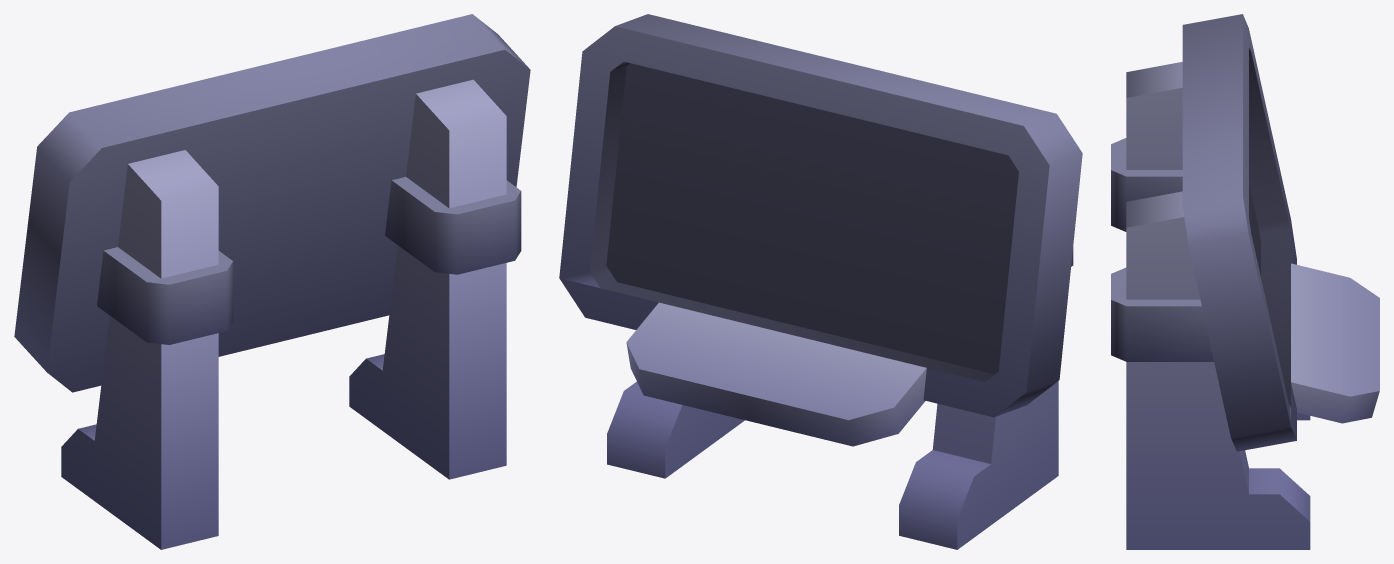
The model's file is F_screen-panel-wide.obj.
3 views of the same model, side by side, from view 1: azimuth 30°, elevation 25°; view 2: azimuth 150°, elevation 25°; view 3: azimuth 270°, elevation 25° (orthographic). The views are drawn at different scales.
Parts seen in each view (by area): view 1: screen-panel-wide; view 2: screen-panel-wide; view 3: screen-panel-wide.
Part boxes in pixels (x1=…): screen-panel-wide: x1=14, y1=14, x2=530, y2=549; screen-panel-wide: x1=559, y1=14, x2=1082, y2=549; screen-panel-wide: x1=1111, y1=14, x2=1379, y2=549.
Bounding box in the file's own units: 1.2 × 0.9913 × 0.6572.
Materials: 1 (1 with a texture image).
